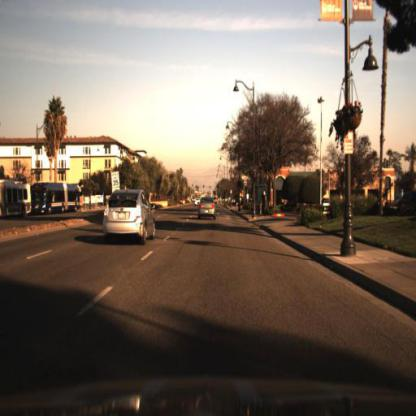car: (103, 190, 158, 245), (195, 193, 220, 226)
pedestrian: (261, 191, 268, 219)
truck: (31, 181, 86, 217), (1, 181, 33, 226), (1, 178, 35, 220)
